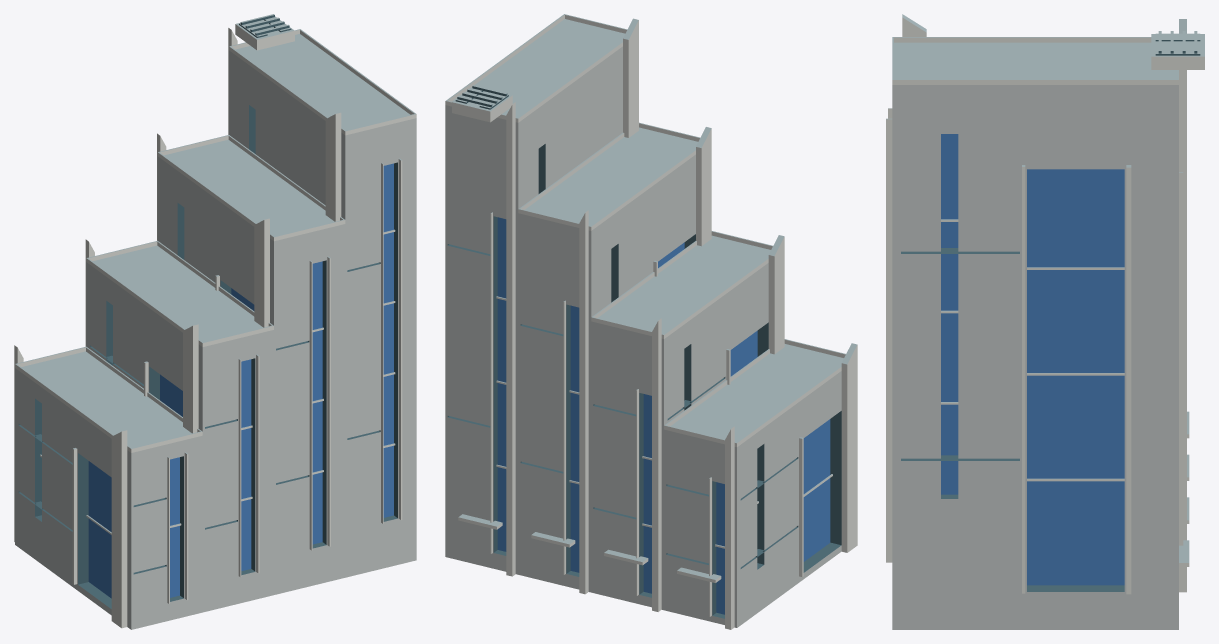
Rendered from 21_Treppenhaus.obj.
3 views of the same model, side by side, from view 1: azimuth 30°, elevation 25°; view 2: azimuth 150°, elevation 25°; view 3: azimuth 270°, elevation 25° (orthographic). The views are drawn at different scales.
Size of the model in its own units: 0.6688 by 1 by 0.5073.
